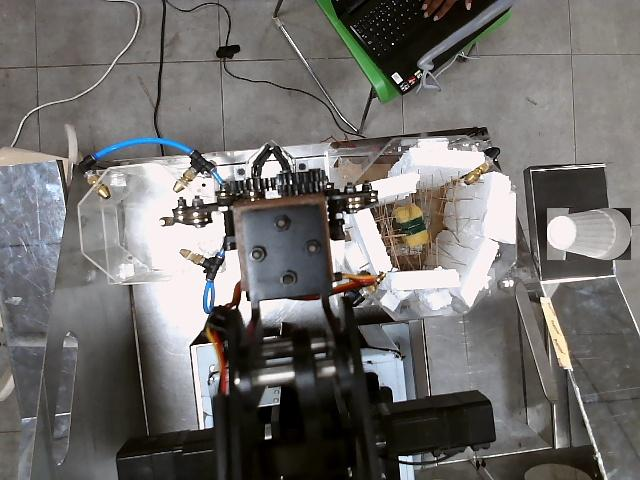cup: (547, 208, 631, 260)
